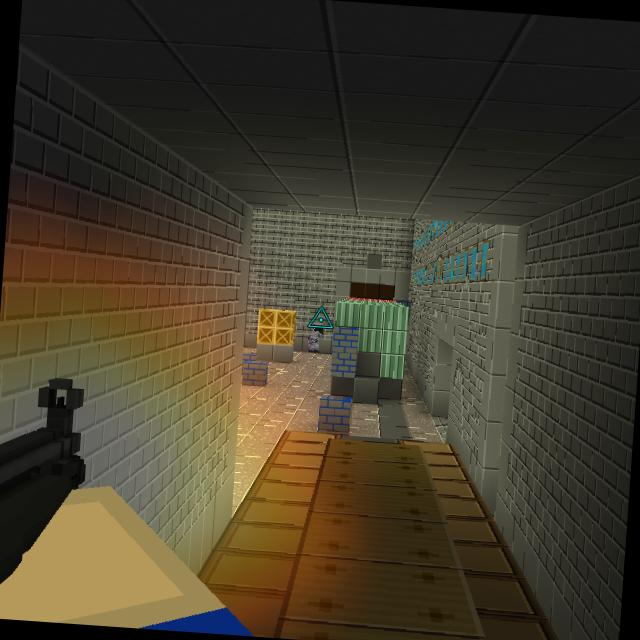enemy: (308, 324, 322, 353)
